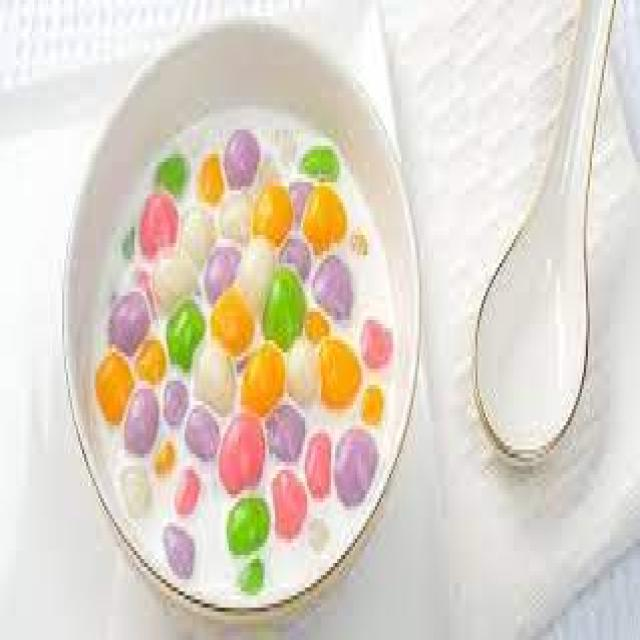Bualoy: (51, 23, 436, 627)
